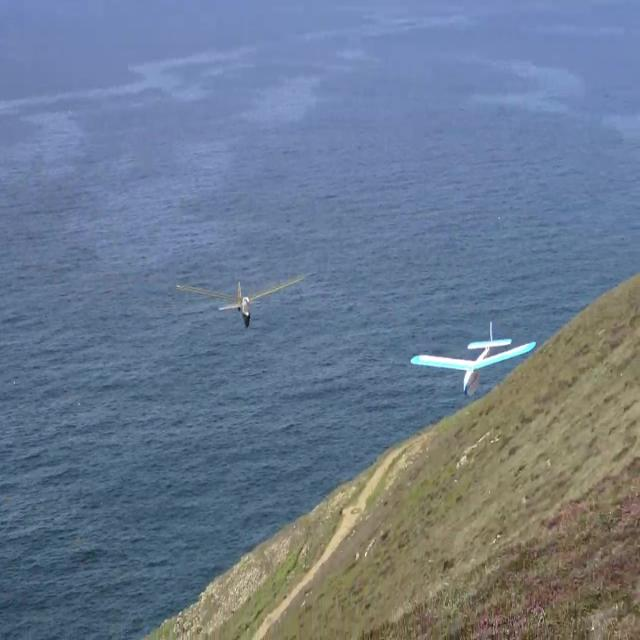iha: (174, 273, 305, 329), (442, 356, 505, 362)
